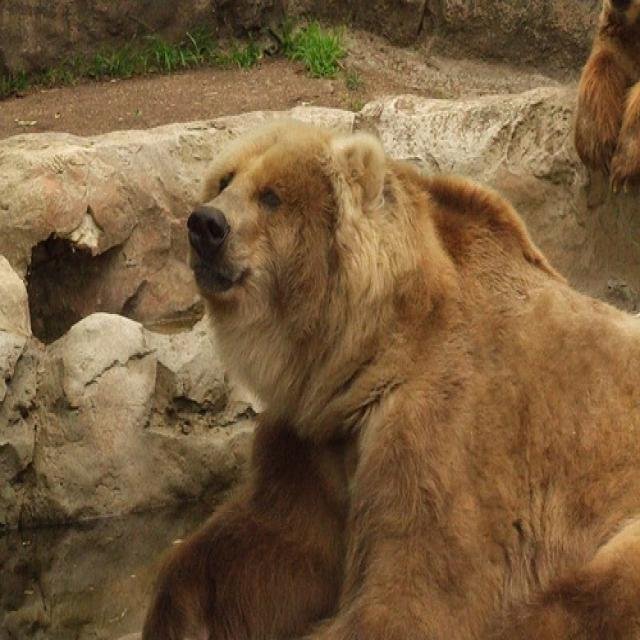Bear: (144, 112, 640, 640)
